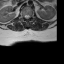CCS_normal: (26, 13, 28, 21)
LFS_stenosis: (30, 13, 32, 19)
LLS_normal: (28, 13, 30, 20)
RFS_normal: (22, 13, 24, 19)
RLS_normal: (24, 13, 26, 19)
